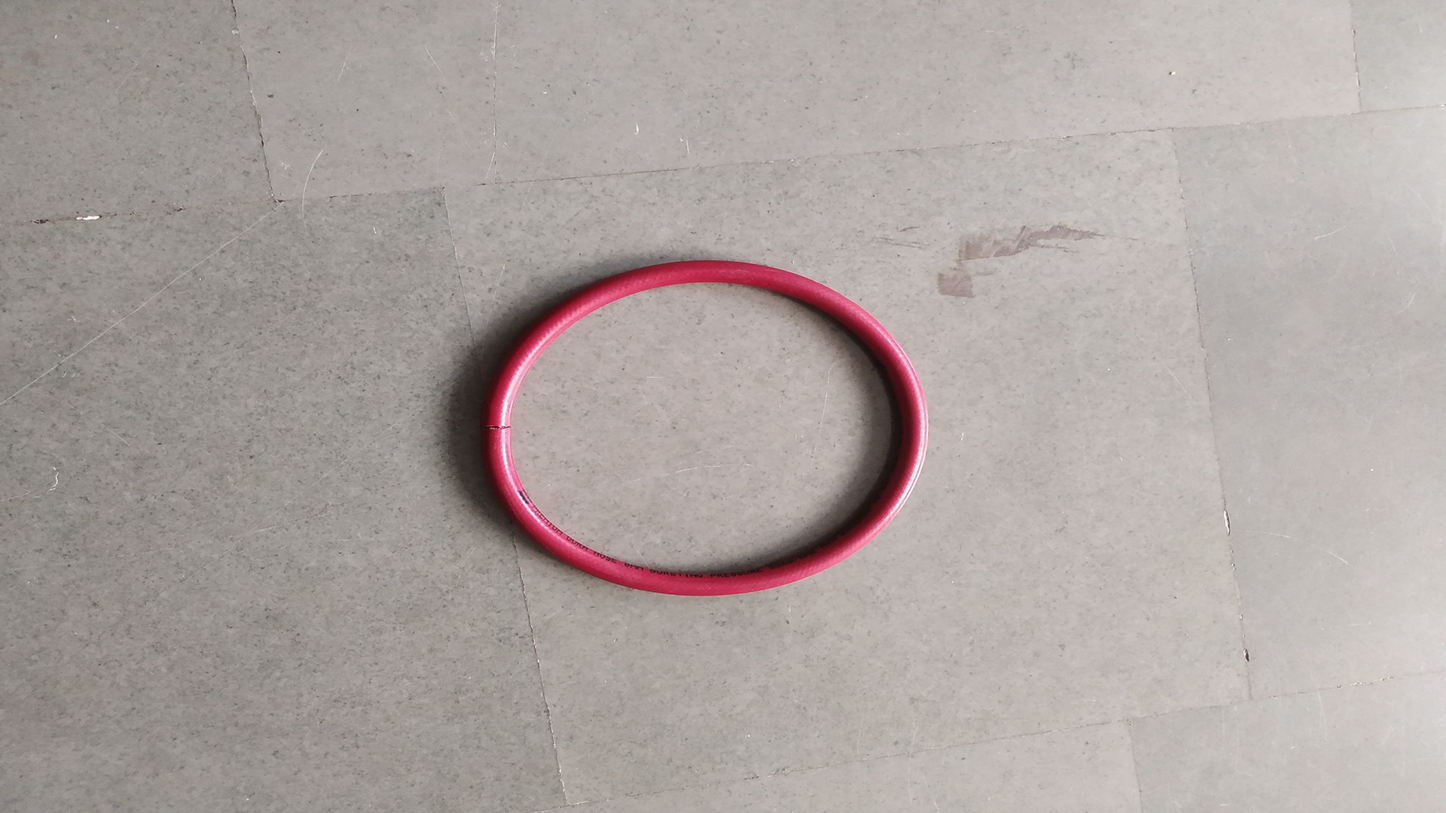Red ring: (475, 261, 928, 595)
